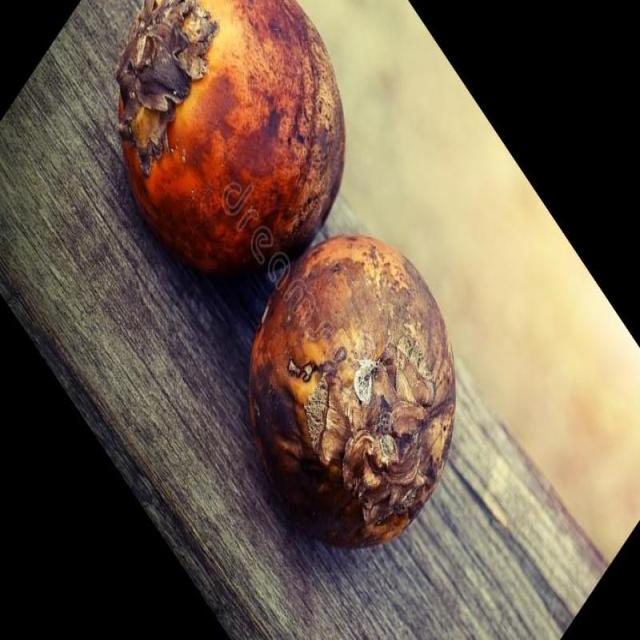damaged: (249, 235, 455, 545), (116, 0, 345, 271)
